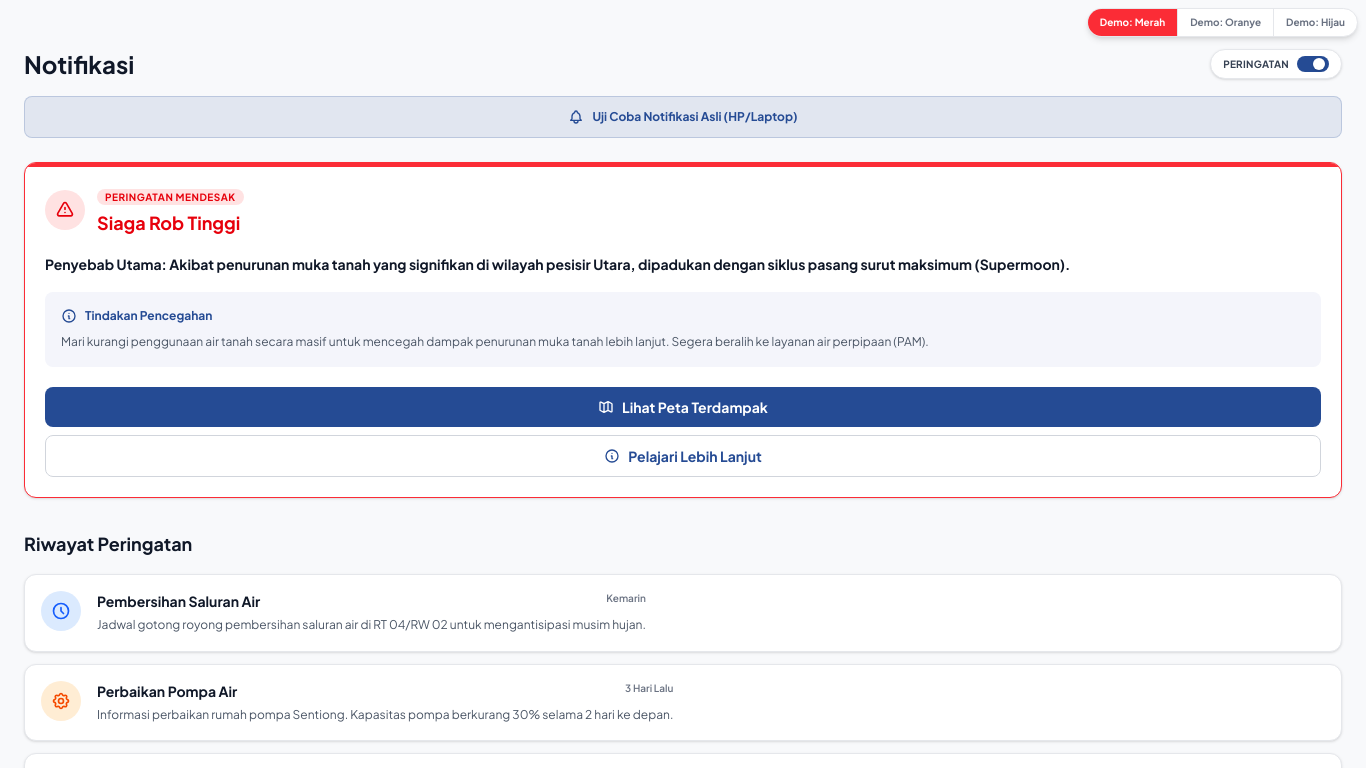
WargaNotifikasiPage › renders Demo Controls and Urgent Warning by default
This screenshot has width=1366, height=768.
Check: the heading "Siaga Rob Tinggi" is shown, box [97,209,244,237]
# Switch to Sedang
What coordinates should you click on to do the following:
click the button "Demo: Oranye"
I would click on:
 (1226, 22)
Its box is [1177,9,1274,36].
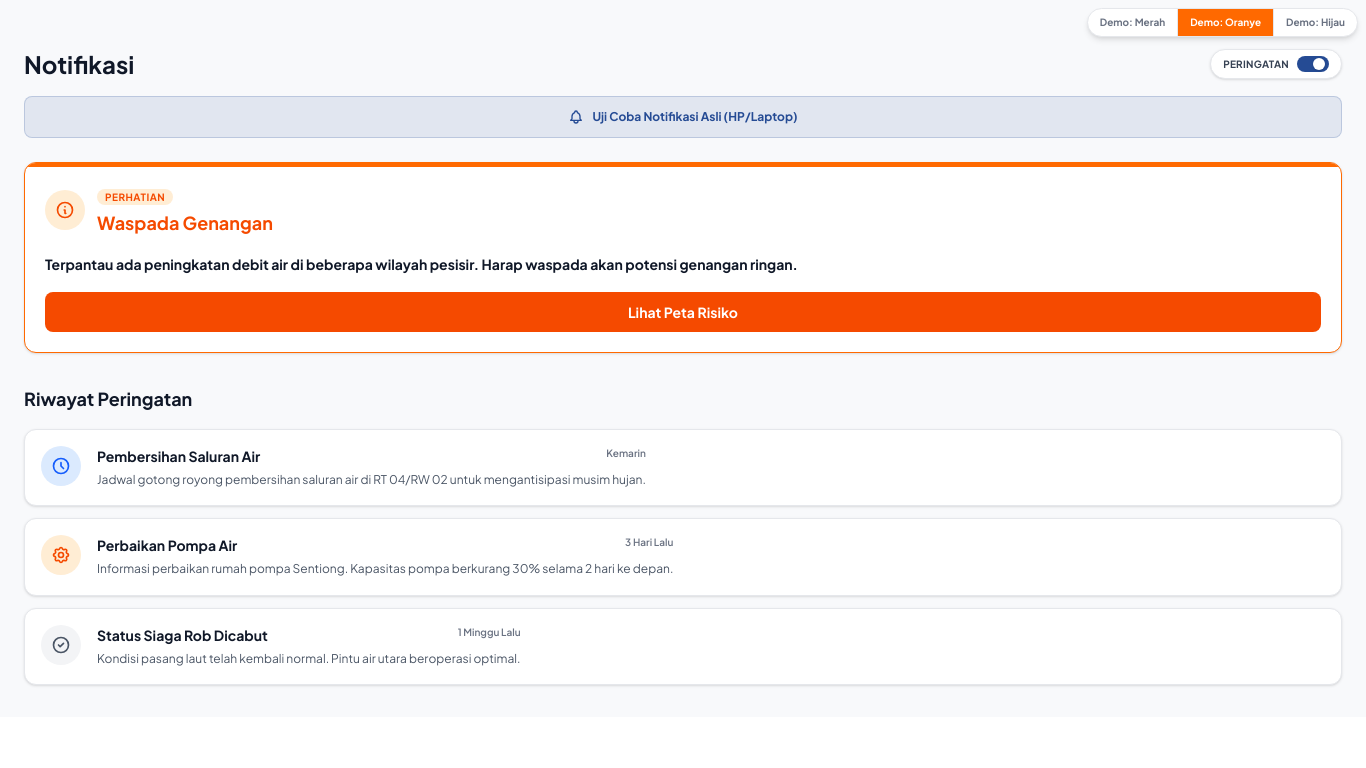
Check: the heading "Waspada Genangan" is shown, box [97,209,273,237]
# Switch to Rendah
What coordinates should you click on to do the following:
click the button "Demo: Hijau"
I would click on:
 (1316, 22)
Its box is [1274,9,1357,36].
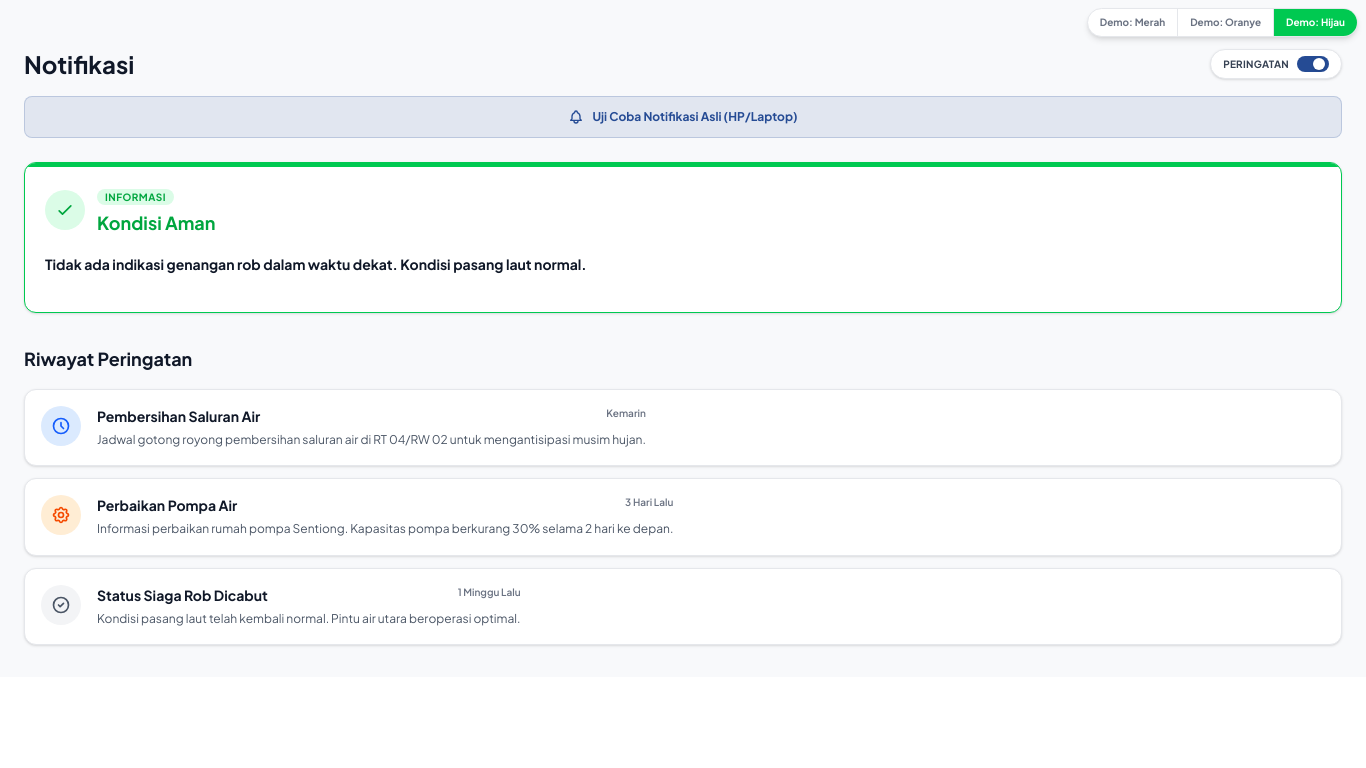
Check: the heading "Kondisi Aman" is shown, box [97,209,216,237]
